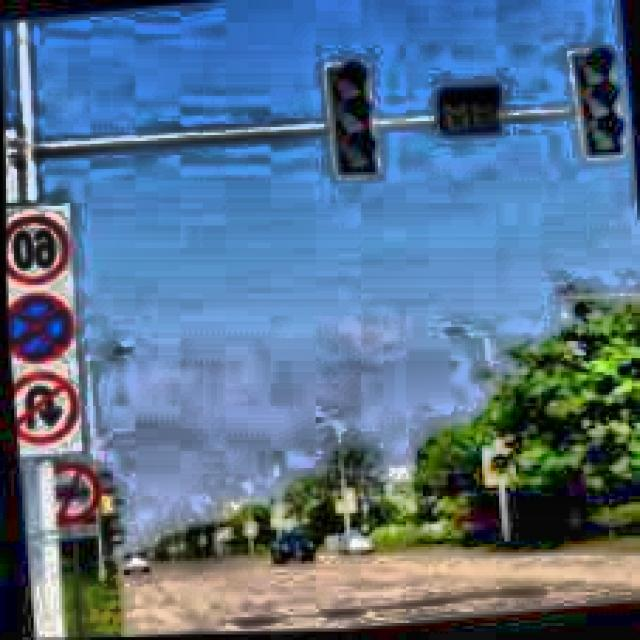green: (574, 47, 627, 162), (328, 63, 376, 179)
